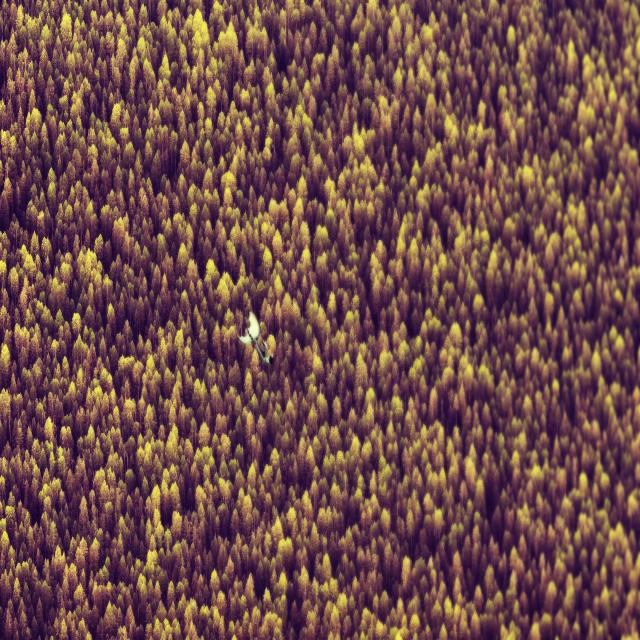airplane: (238, 310, 274, 366)
